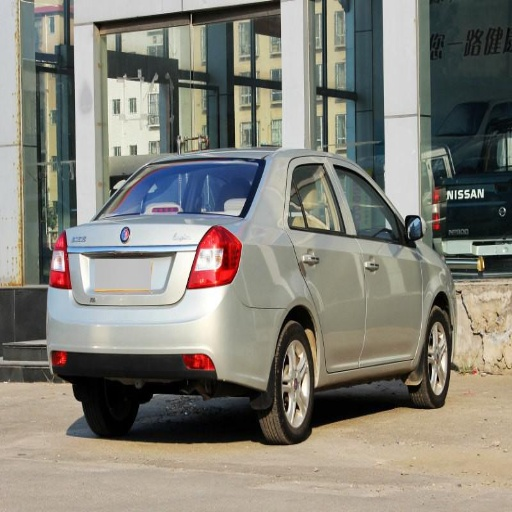back_bumper: (45, 282, 283, 389)
back_right_door: (287, 156, 365, 369)
